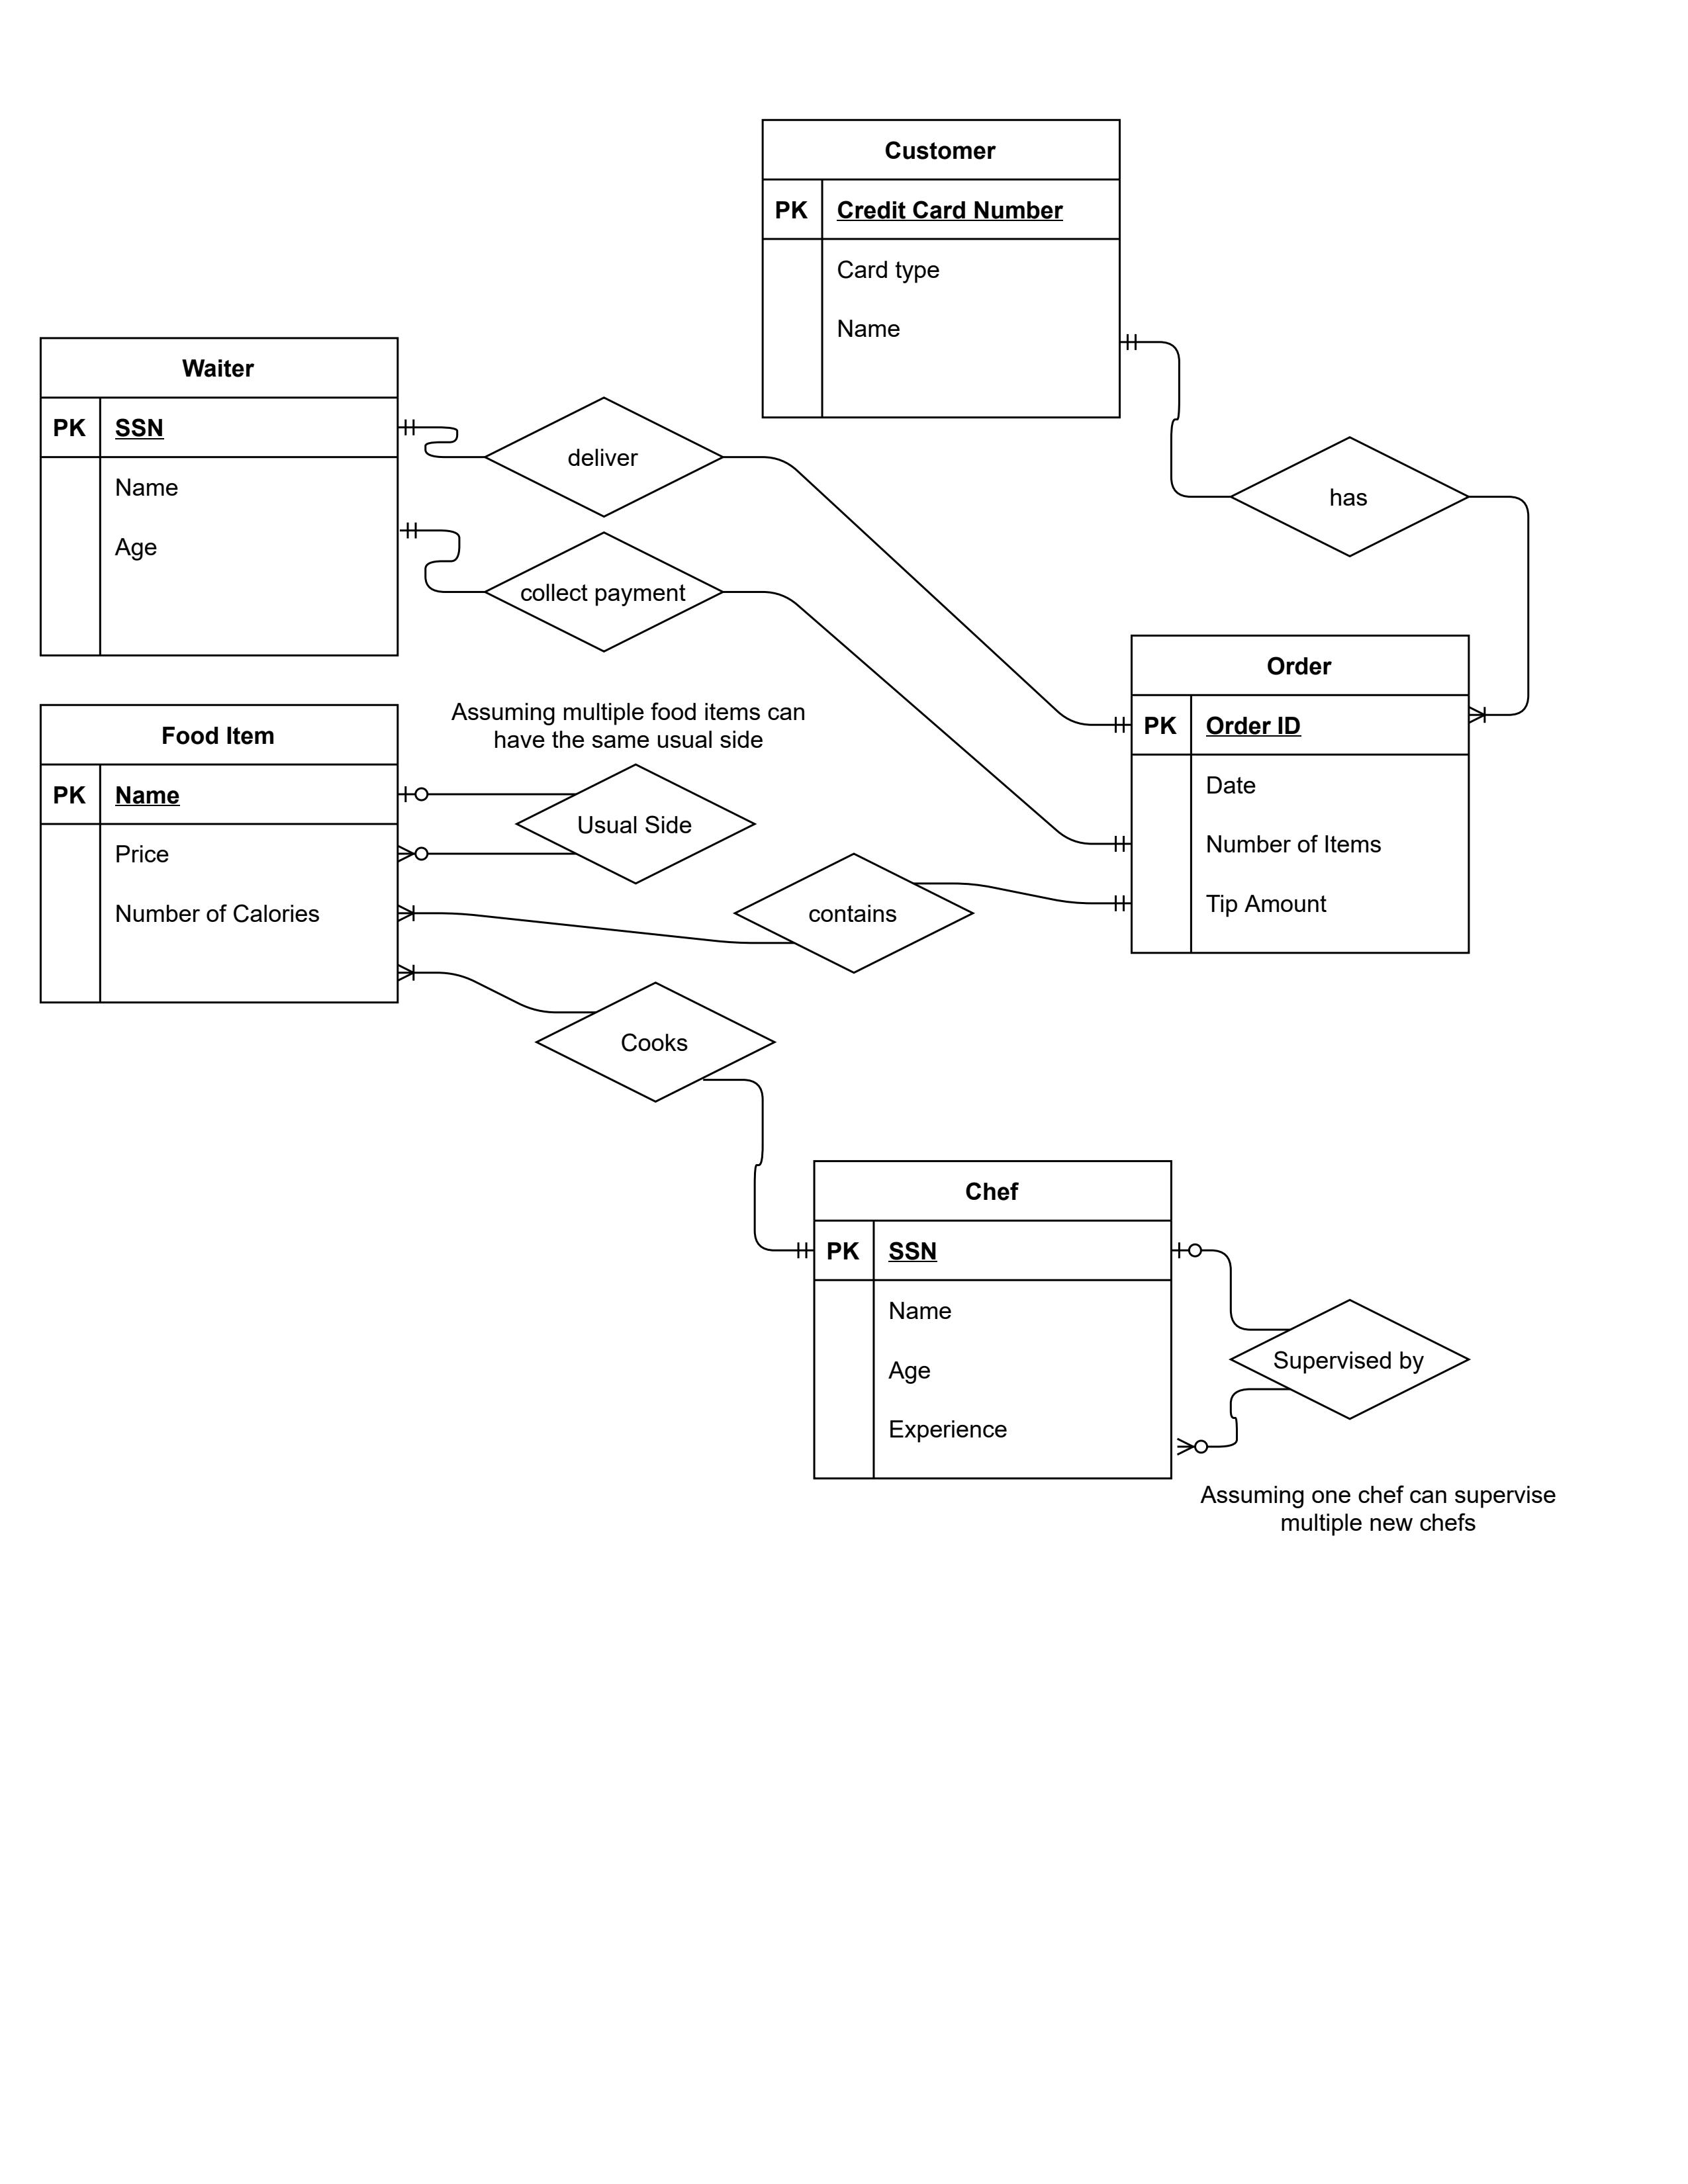Entity: (34, 330, 406, 665), (807, 1158, 1183, 1484), (1121, 629, 1481, 964), (755, 113, 1131, 429), (35, 698, 401, 1010)
Relationship: (1225, 1294, 1481, 1425), (512, 757, 759, 892), (535, 979, 777, 1111), (738, 849, 986, 975), (1231, 434, 1473, 562), (482, 526, 729, 651), (481, 395, 727, 514)
